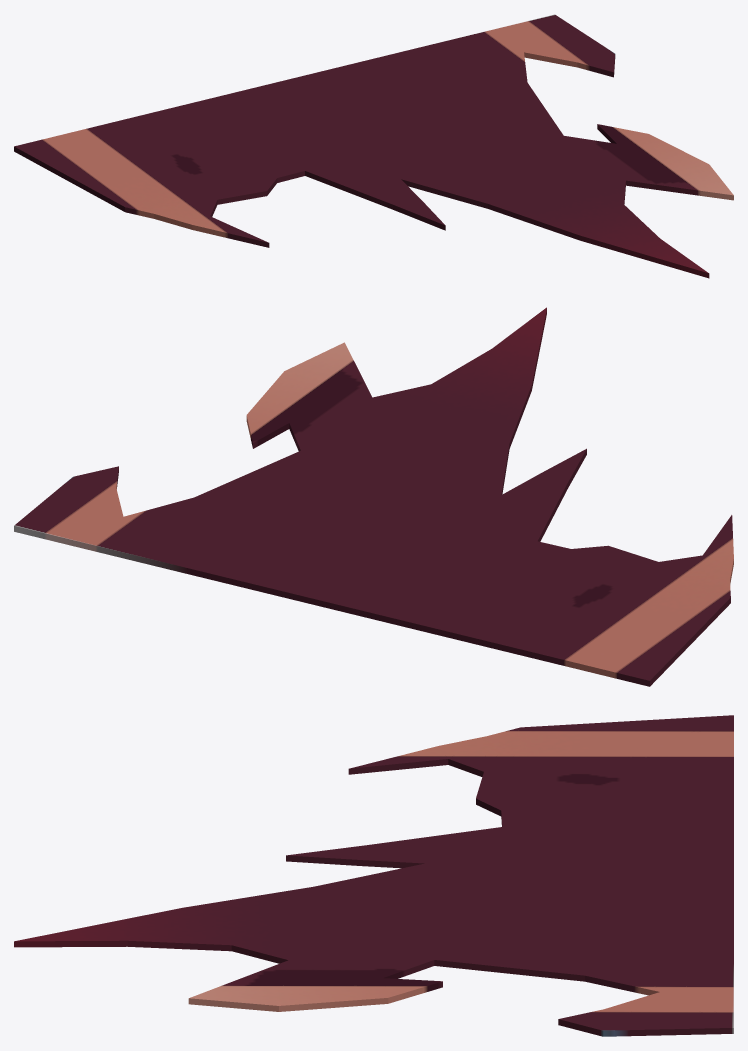
The model's file is Carpet 01 End 02.fbx.
3 views of the same model, one above another, from view 1: azimuth 30°, elevation 25°; view 2: azimuth 150°, elevation 25°; view 3: azimuth 270°, elevation 25° (orthographic). The views are drawn at different scales.
Parts seen in each view (by area): view 1: Carpet 01 End 02.001; view 2: Carpet 01 End 02.001; view 3: Carpet 01 End 02.001.
Part boxes in pixels (box(x1,y1,x2,y2)): Carpet 01 End 02.001: box(14, 14, 733, 278); Carpet 01 End 02.001: box(14, 307, 733, 686); Carpet 01 End 02.001: box(14, 715, 733, 1036).
Size of the model in its own units: 168 by 1.5 by 162.
